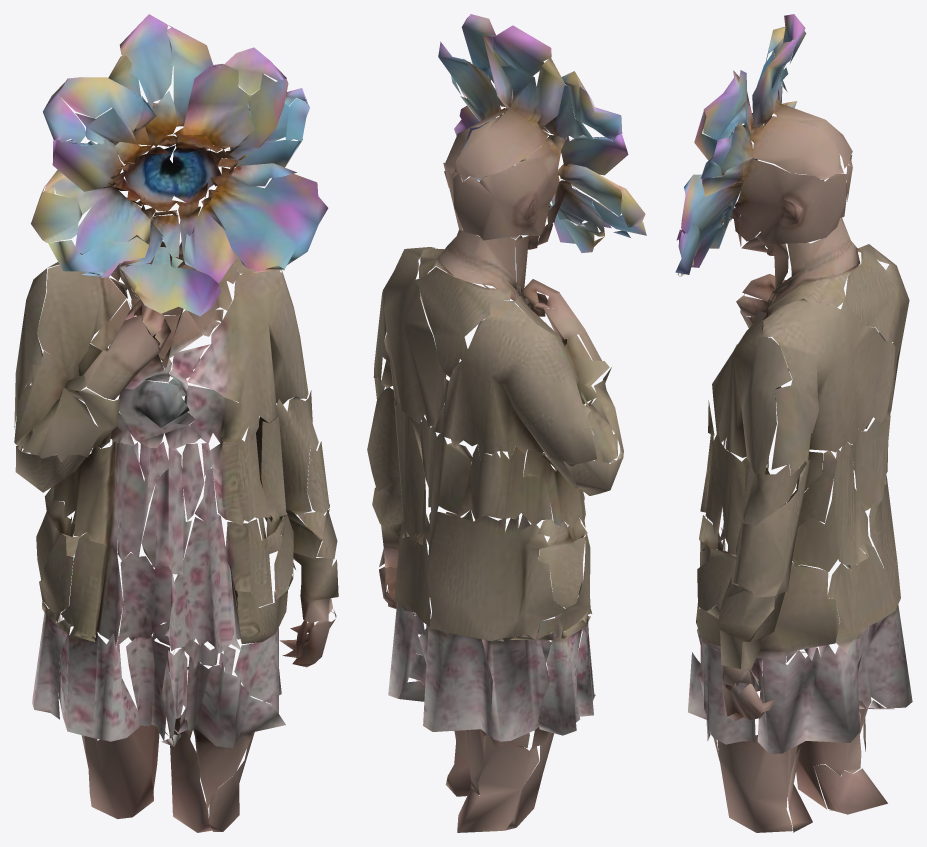
Rendered from crowd_rosemary.glb.
3 renders of one model, left to right at view 1: azimuth 30°, elevation 25°; view 2: azimuth 150°, elevation 25°; view 3: azimuth 270°, elevation 25°, orthographic. The views are drawn at different scales.
Parts seen in each view (by area): view 1: tripo_node_c2bd8c0d-a308-427d-9c4a-32c9a3a762b1; view 2: tripo_node_c2bd8c0d-a308-427d-9c4a-32c9a3a762b1; view 3: tripo_node_c2bd8c0d-a308-427d-9c4a-32c9a3a762b1.
Part boxes in pixels (x1=…): tripo_node_c2bd8c0d-a308-427d-9c4a-32c9a3a762b1: x1=14, y1=14, x2=338, y2=832; tripo_node_c2bd8c0d-a308-427d-9c4a-32c9a3a762b1: x1=367, y1=14, x2=646, y2=832; tripo_node_c2bd8c0d-a308-427d-9c4a-32c9a3a762b1: x1=675, y1=14, x2=912, y2=832.
Size of the model in its own units: 0.7159 by 1.88 by 0.5151.
1 material, 1 textured.
